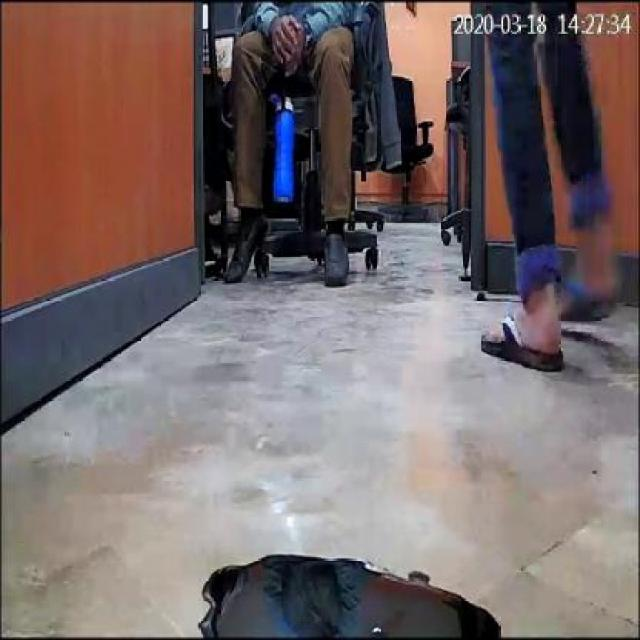spill: (198, 554, 500, 638)
